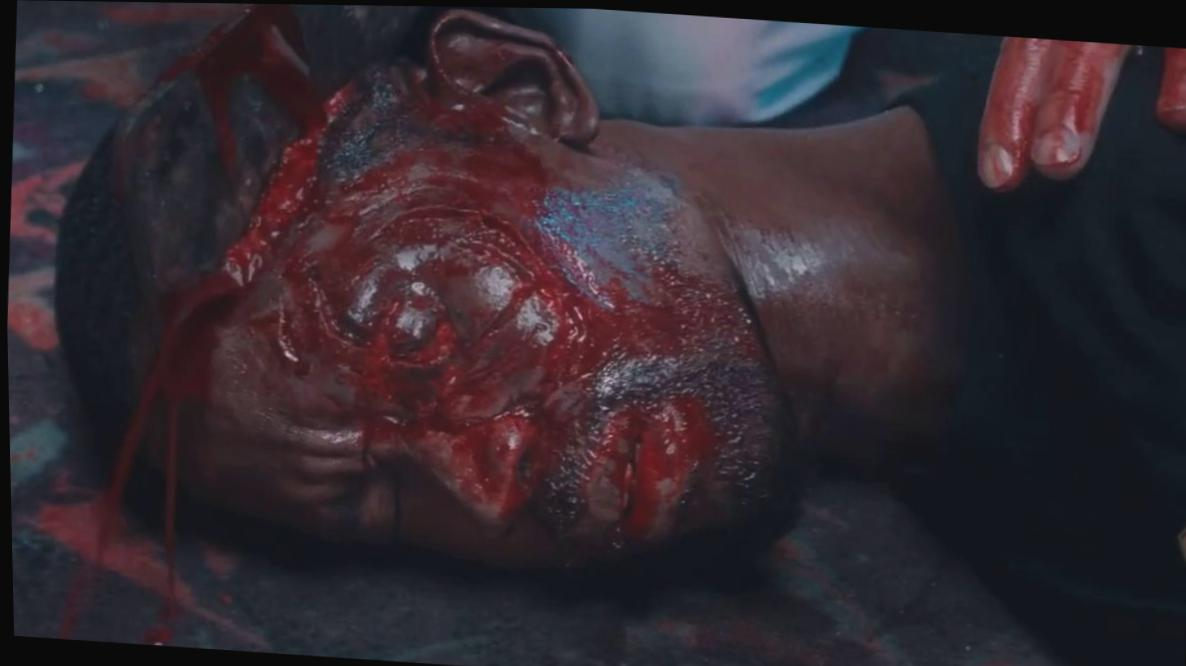Fire: (54, 3, 818, 645), (980, 33, 1135, 186), (1158, 43, 1186, 126)
